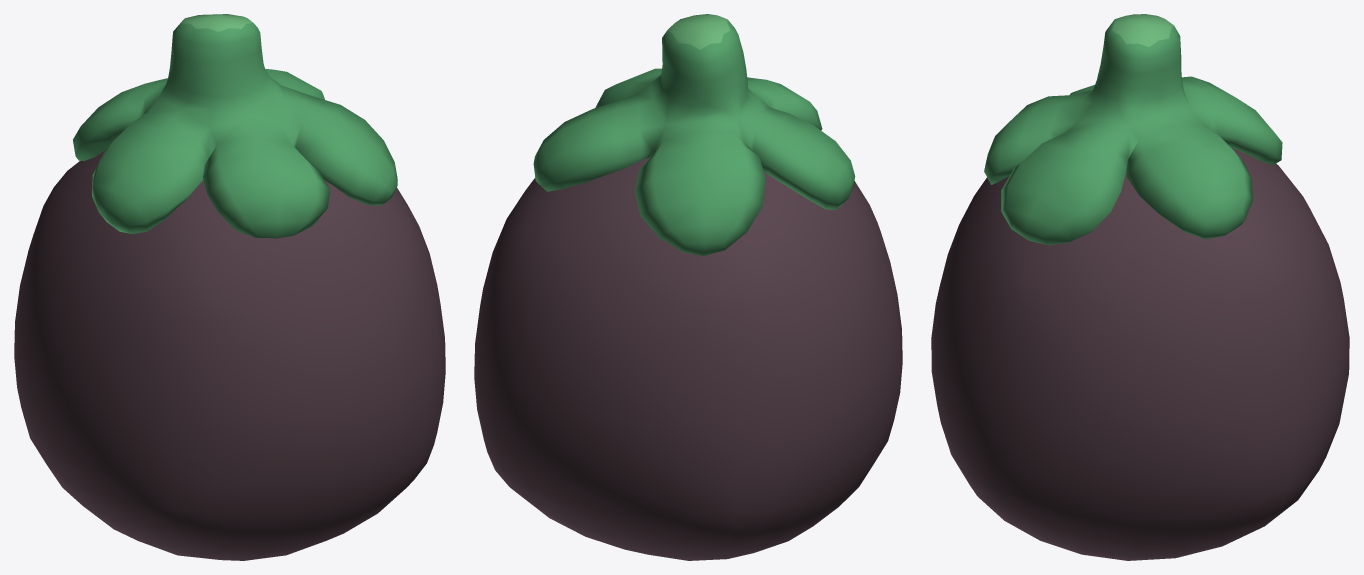
Rendered from Mangosteen_02.dae.
3 views of the same model, side by side, from view 1: azimuth 30°, elevation 25°; view 2: azimuth 150°, elevation 25°; view 3: azimuth 270°, elevation 25° (orthographic). The views are drawn at different scales.
Parts seen in each view (by area): view 1: Mangosteen_02_LOD0; view 2: Mangosteen_02_LOD0; view 3: Mangosteen_02_LOD0.
Part boxes in pixels (bbox=[...]): Mangosteen_02_LOD0: bbox=[14, 14, 445, 560]; Mangosteen_02_LOD0: bbox=[474, 14, 902, 560]; Mangosteen_02_LOD0: bbox=[931, 14, 1349, 560].
Size of what is drawn, in the model's own units: 3.62 by 3.7 by 4.97.
